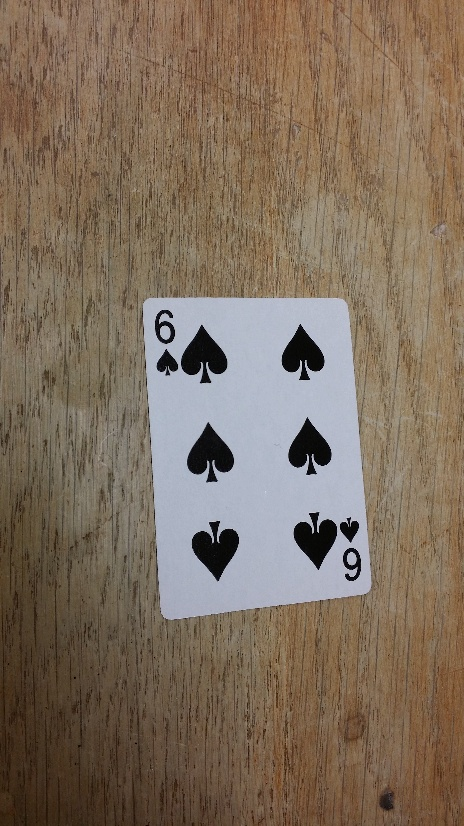S6: (148, 303, 183, 379), (337, 511, 366, 586)
